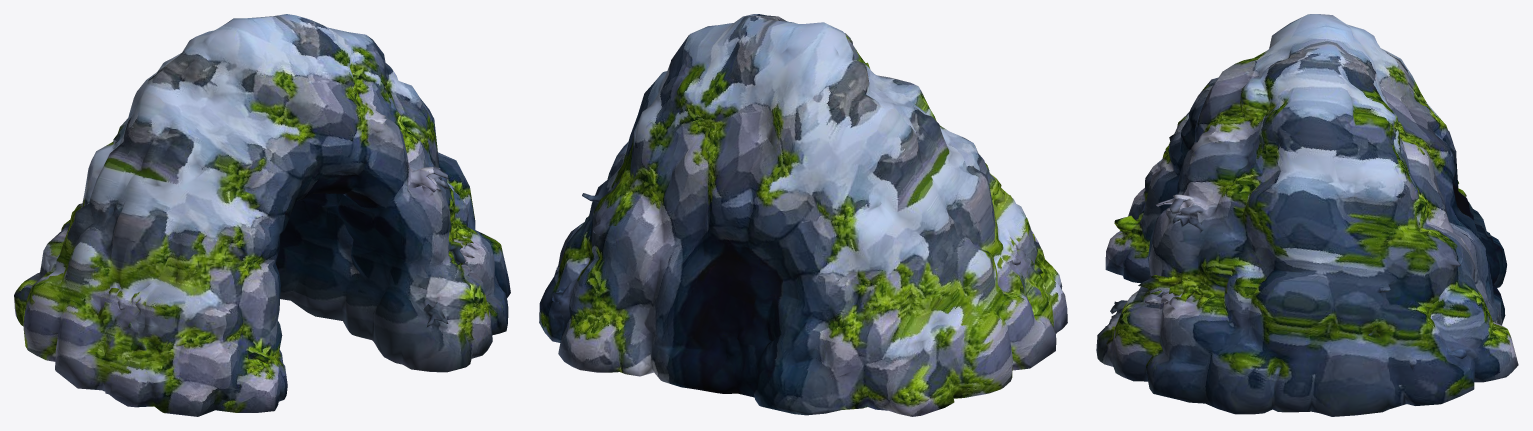
File: cave.glb
3 views of the same model, side by side, from view 1: azimuth 30°, elevation 25°; view 2: azimuth 150°, elevation 25°; view 3: azimuth 270°, elevation 25° (orthographic). The views are drawn at different scales.
Parts seen in each view (by area): view 1: geometry_0; view 2: geometry_0; view 3: geometry_0.
Boxes of the visible parts, x1=… form: geometry_0: x1=14, y1=14, x2=510, y2=416; geometry_0: x1=539, y1=14, x2=1067, y2=416; geometry_0: x1=1096, y1=14, x2=1518, y2=416.
Size of the model in its own units: 9 by 5.82 by 7.71.
1 material, 1 textured.
